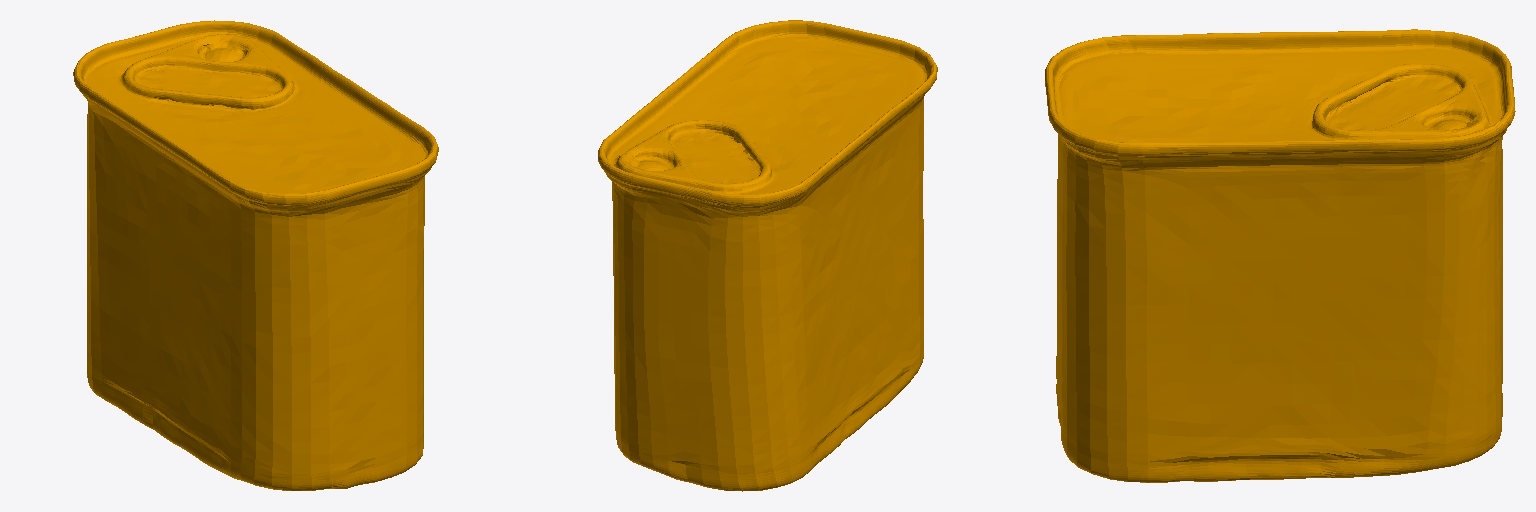
robot.urdf — meat_can:
<?xml version="1.0"?>
<robot name="meat_can">
  <link name="meat_can">
    <visual>
      <origin xyz="0.0 0.0 0.0" rpy="0.0 0.0 1.5708"/>
      <geometry>
        <mesh filename="meat_can.obj" scale="0.01 0.01 0.01"/>
      </geometry>
    </visual>
    <collision>
      <origin xyz="0.0 0.0 0.0" rpy="0.0 0.0 1.5708"/>
      <geometry>
        <mesh filename="collision.obj" scale="0.01 0.01 0.01"/>
      </geometry>
    </collision>
    <inertial>
      <!-- Mass value from the *empty* spam can. Full spam can is 368g -->
      <mass value="0.3"/> 
      <inertia ixx="0.0001" ixy="0.0" ixz="0.0" iyy="0.0001" iyz="0.0" izz="0.0001"/>
    </inertial>
  </link>
</robot>

--- Facts derived from the render (not from the file) ---
Views: 3 orthographic renders of the robot side by side, from view 1: azimuth 30°, elevation 25°; view 2: azimuth 150°, elevation 25°; view 3: azimuth 270°, elevation 25°.
Model meat_can with 1 links and 0 joints (none), rooted at meat_can, posed all joints at 0.
Links seen in each view (by area): view 1: meat_can; view 2: meat_can; view 3: meat_can.
Boxes of the visible links, bbox=[...] form: meat_can: bbox=[73, 20, 438, 490]; meat_can: bbox=[598, 20, 937, 491]; meat_can: bbox=[1045, 29, 1515, 482].
Size in the robot's own frame: 0.06 by 0.1021 by 0.0834 metres.
Meshes: 1 distinct files referenced, 1 mesh visuals loaded (1 OBJ).